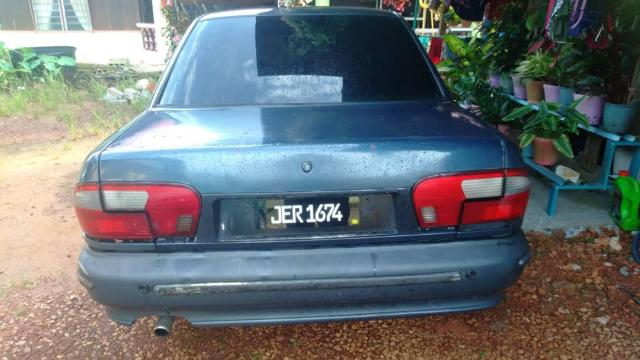License_Plate: (256, 201, 357, 233)
car: (72, 7, 525, 332)
